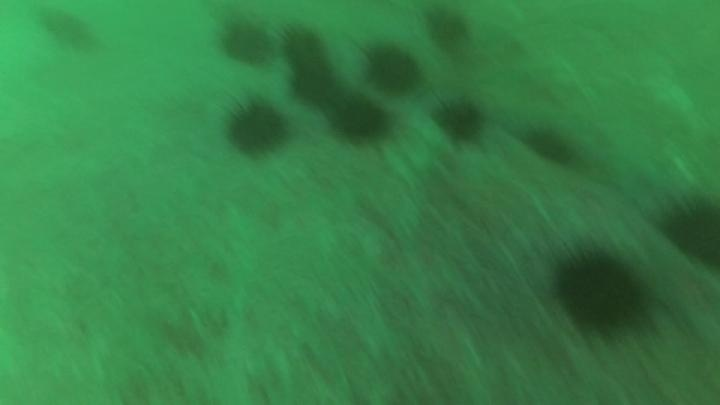echinus: (551, 245, 648, 336), (657, 192, 720, 270), (221, 95, 291, 160), (278, 23, 334, 92), (361, 41, 423, 97), (30, 1, 94, 48), (331, 95, 390, 144), (218, 19, 275, 68), (431, 96, 486, 144), (521, 124, 576, 168), (423, 6, 472, 52), (289, 61, 337, 107)
